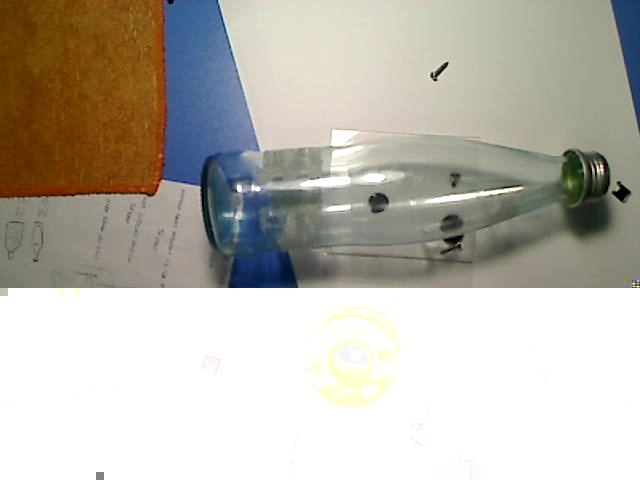bottle: (199, 137, 613, 260)
